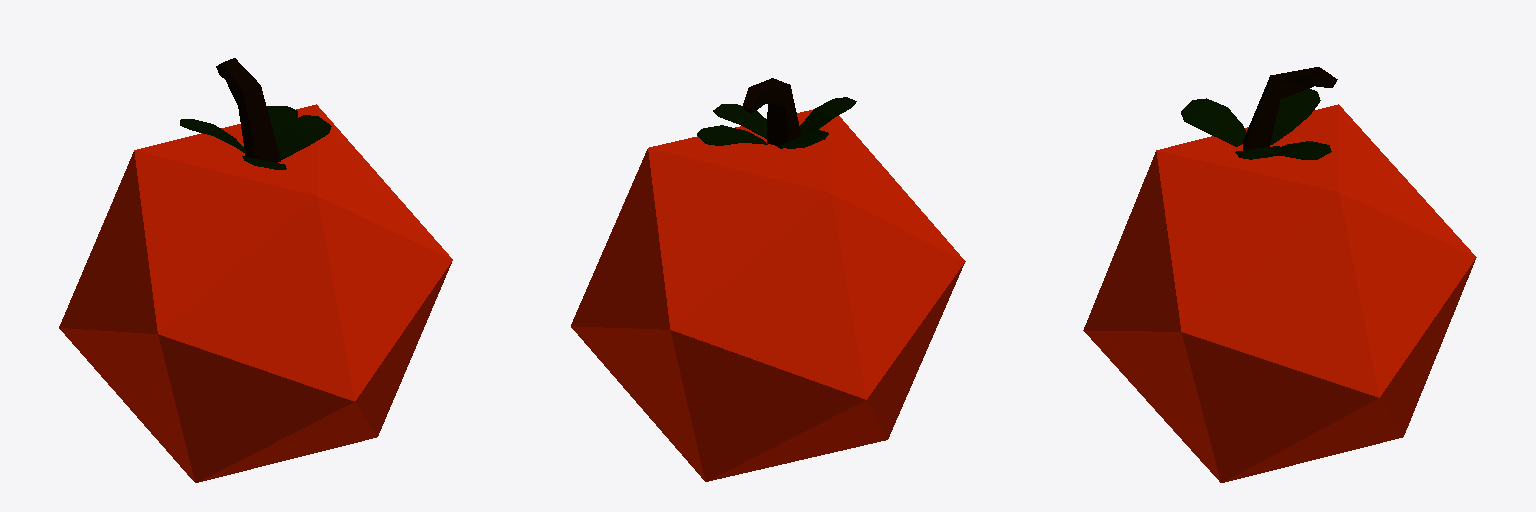
File: pumpkin.obj
3 renders of one model, left to right at view 1: azimuth 30°, elevation 25°; view 2: azimuth 150°, elevation 25°; view 3: azimuth 270°, elevation 25°, orthographic.
Size of the model in its own units: 1.7 by 2.02 by 1.96.